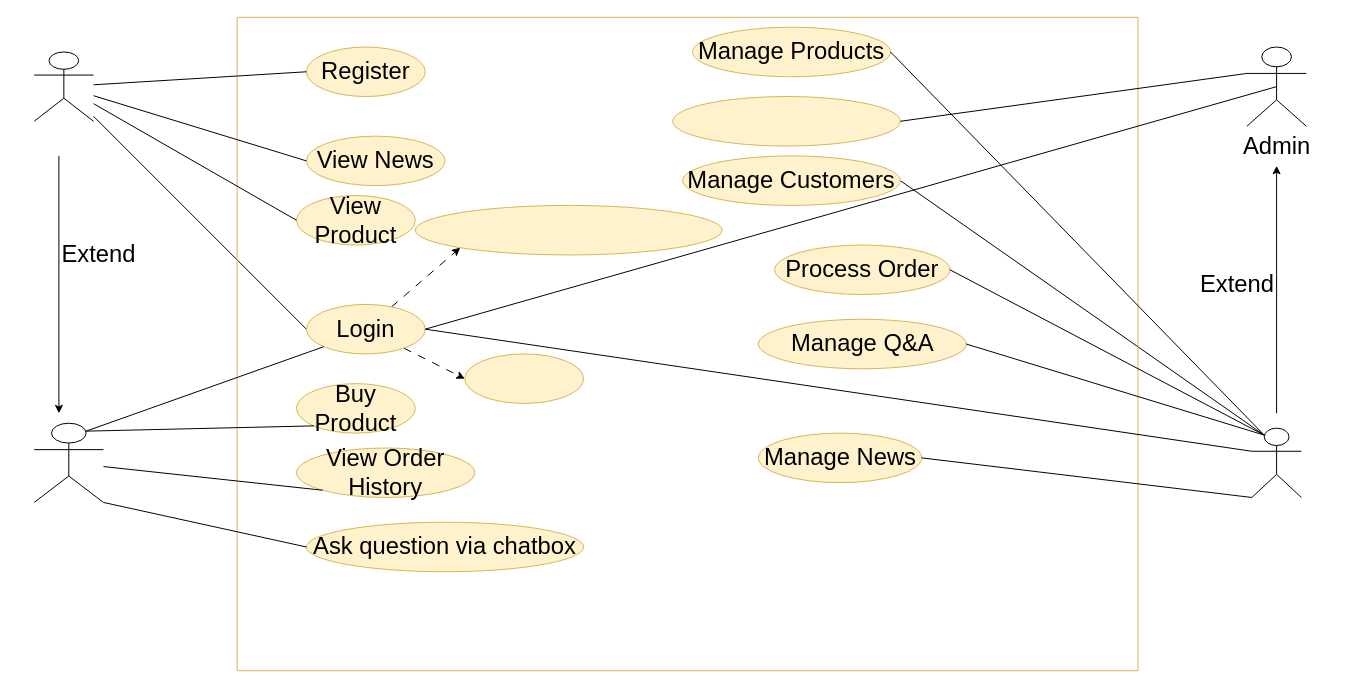
This 1346x688 diagram has some shape labels left out. The shapes that lost their labels are listed below. From the top down, each one's centre as x and y in pixels, then its label:
At pixel 63 86: "Guest".
At pixel 786 121: "Manage Employees".
At pixel 568 229: "Update personal information".
At pixel 524 378: "Logout".
At pixel 68 462: "Customer".
At pixel 1276 462: "Employee".
